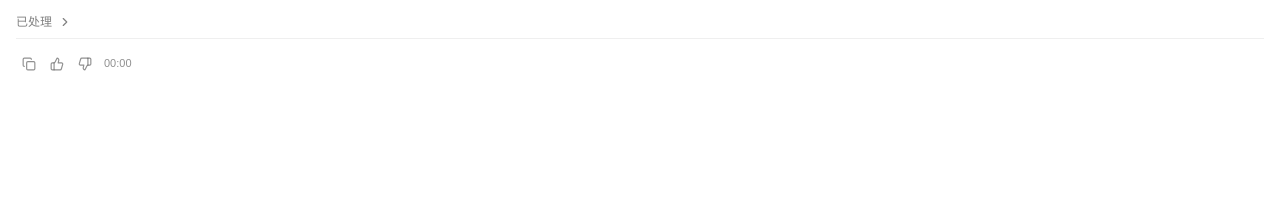
Test: ConversationView › keeps write failures expandable without exposing content
Step 1. Click the button with aria-label "展开回复 已处理" → (44, 22), box [16,12,72,32]
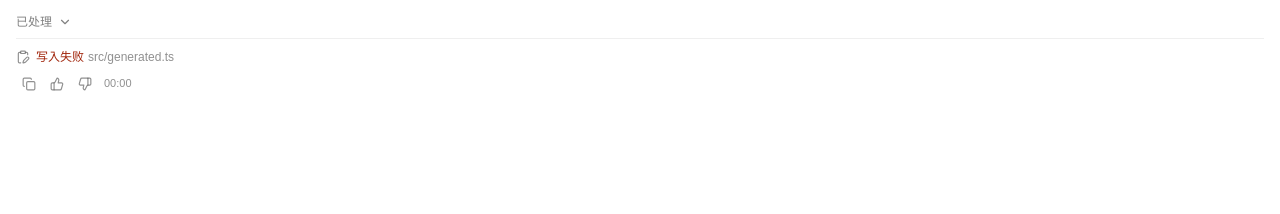
Expected: the text "EACCES" is not shown
Step 2. Click the button with aria-label "展开工具输出 src/generated.ts" → (60, 57), box [16,47,1264,67]
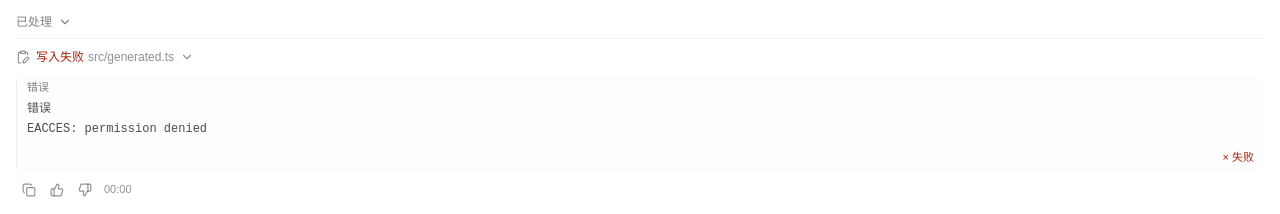
Expected: the text "错误 EACCES: permission denied" is shown, [27,102,207,136]
